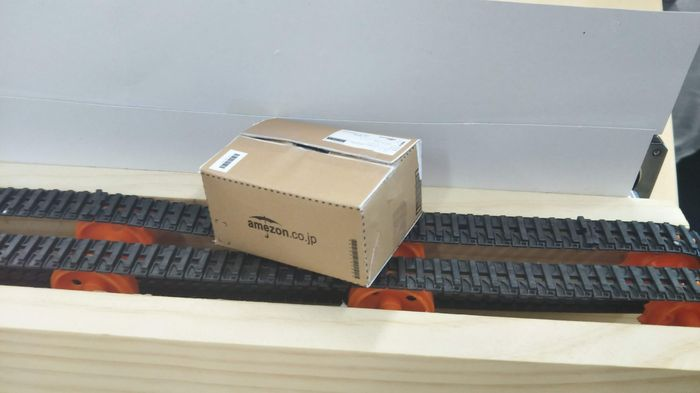box1: (196, 114, 426, 288)
